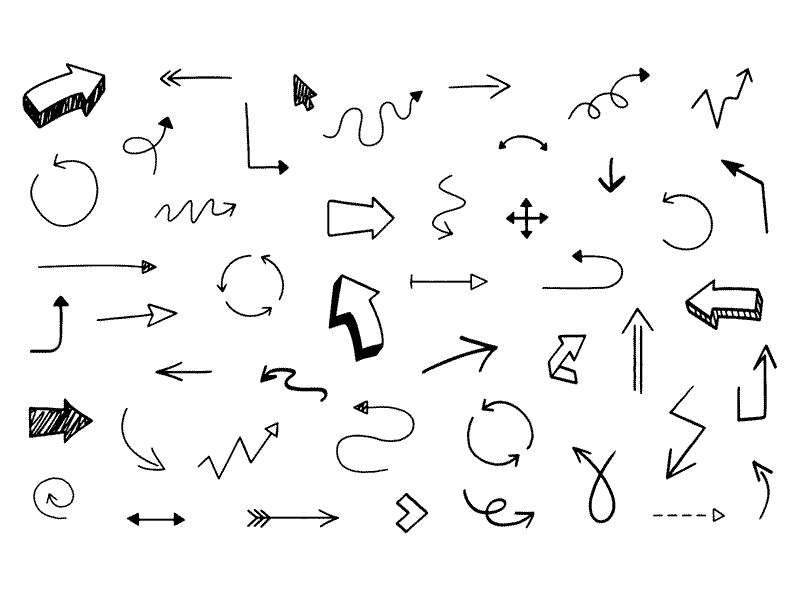arrow: (327, 398, 421, 480), (16, 60, 114, 130), (189, 417, 285, 486), (24, 153, 106, 230), (460, 394, 539, 473), (323, 88, 426, 147), (657, 381, 713, 486), (215, 249, 291, 322), (566, 441, 626, 531), (564, 62, 652, 123), (686, 64, 760, 133), (235, 100, 296, 181), (413, 327, 507, 379), (728, 339, 781, 427), (719, 155, 774, 239), (89, 295, 187, 342), (115, 403, 174, 481), (149, 187, 247, 232), (537, 245, 628, 293), (119, 111, 181, 181), (20, 395, 101, 448), (320, 190, 398, 245), (458, 485, 545, 534), (256, 358, 337, 410), (652, 187, 715, 253), (419, 170, 470, 247), (29, 253, 166, 281), (619, 302, 656, 400), (26, 291, 73, 364), (24, 473, 83, 525), (405, 264, 494, 298), (441, 64, 514, 105), (543, 327, 589, 392), (644, 498, 732, 530), (742, 457, 779, 528), (155, 61, 239, 92), (116, 509, 191, 537), (281, 68, 321, 120), (491, 129, 553, 160), (592, 153, 632, 198), (145, 363, 220, 385)
